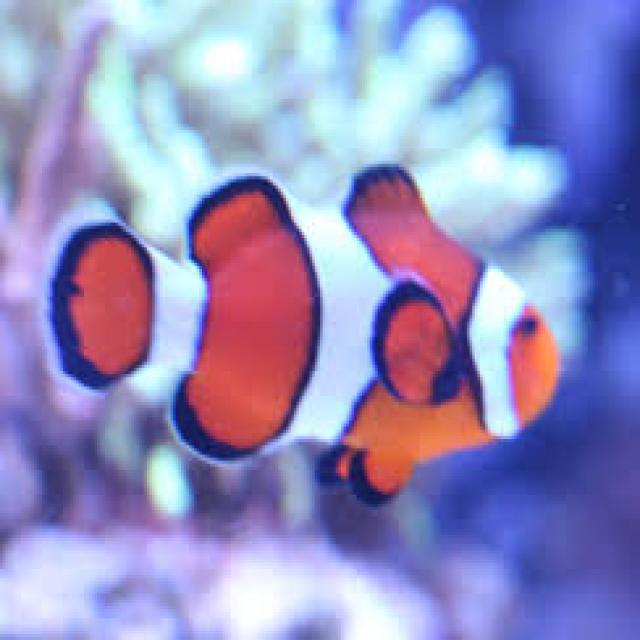Amphiprion-percula: (44, 134, 576, 544)
